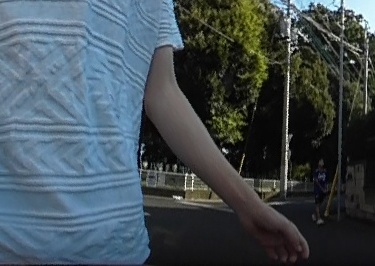person: (313, 156, 329, 223)
